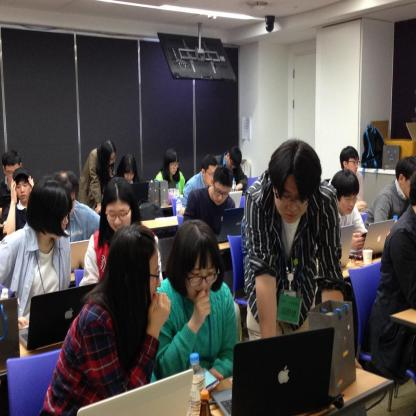board: (234, 329, 350, 410), (76, 368, 192, 416), (20, 283, 97, 350), (350, 220, 395, 258), (189, 355, 206, 415), (217, 209, 243, 242), (68, 237, 90, 271), (340, 225, 354, 270), (201, 386, 215, 416), (229, 192, 242, 209), (363, 249, 373, 268), (176, 195, 183, 215)
